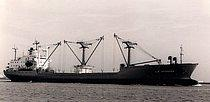Ship: (5, 33, 202, 88)
